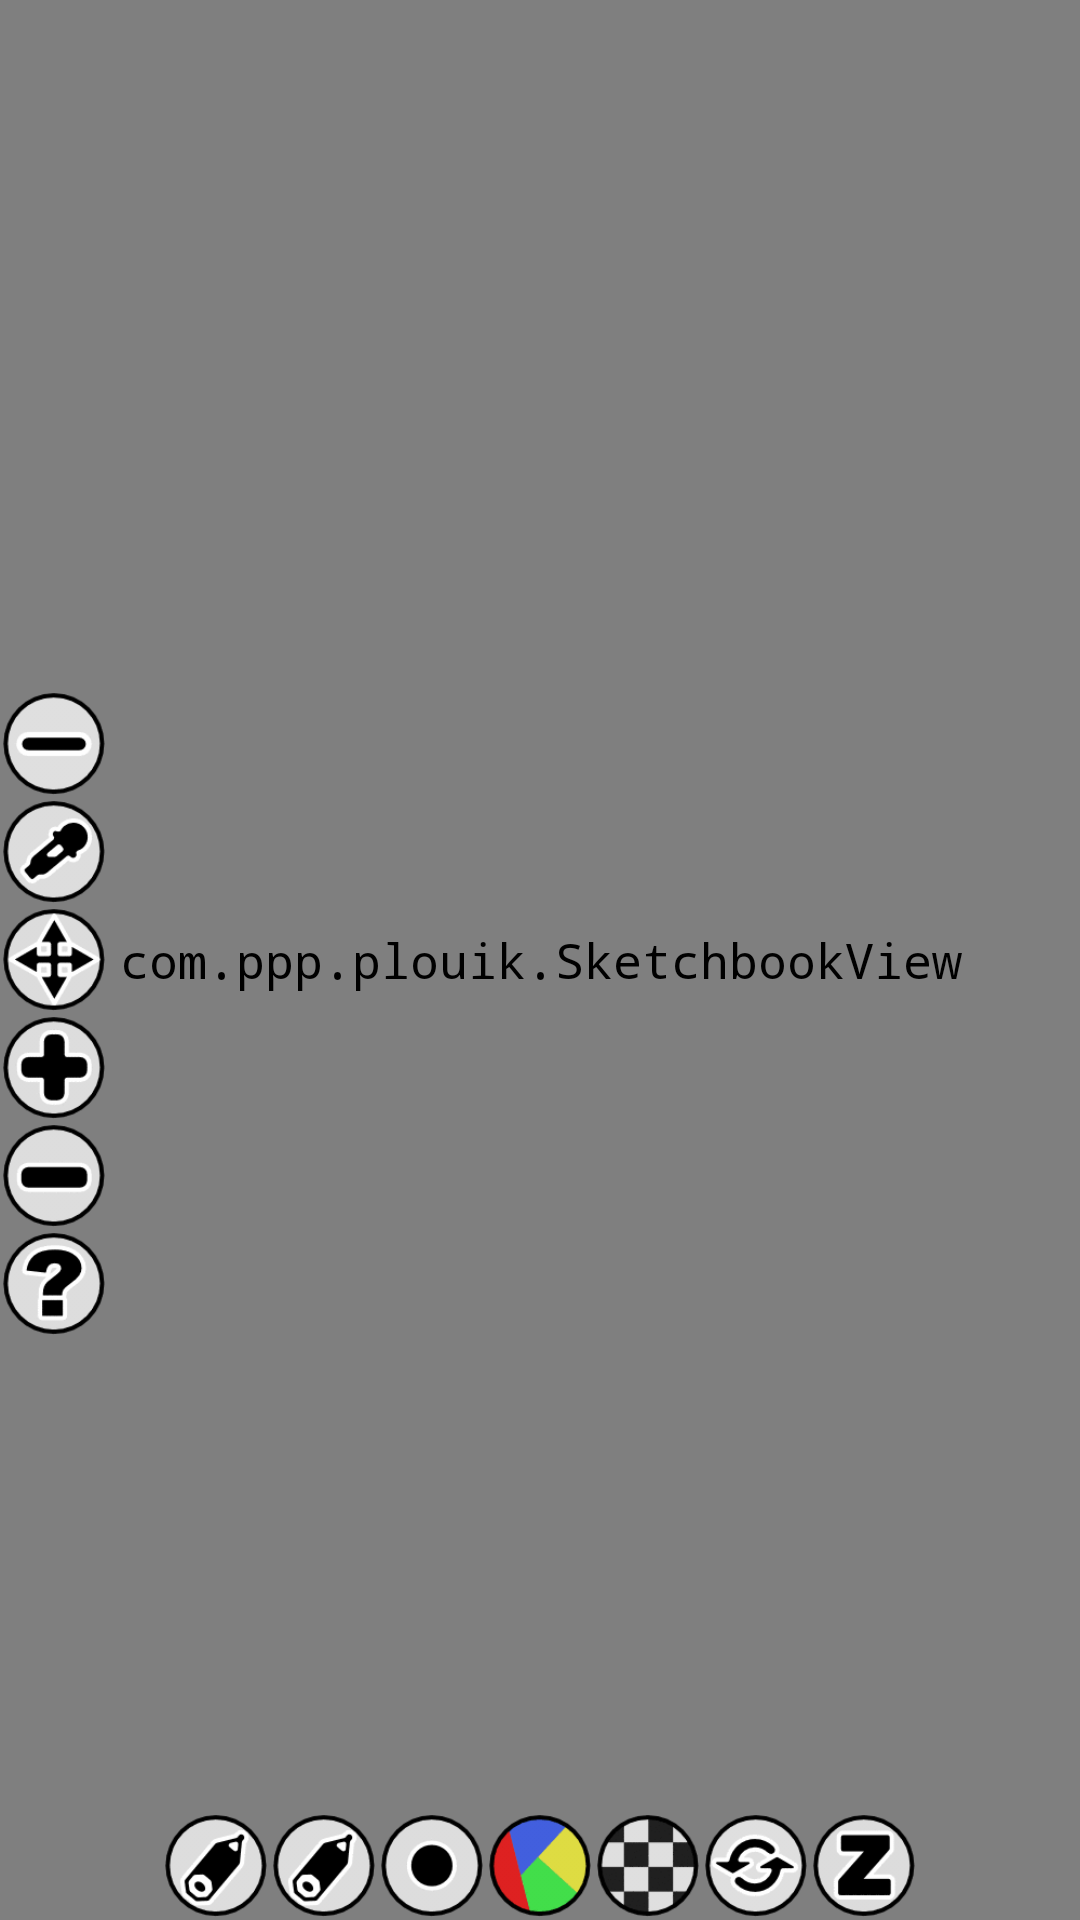

Named icons in this screenshot (1080w x 1920h) and their bounding boxes, {"x1": x1, "y1": y1, "x2": x2, "y2": y2}:
desktopabout: {"x1": 3, "y1": 1233, "x2": 105, "y2": 1334}
desktopcolor: {"x1": 489, "y1": 1815, "x2": 591, "y2": 1916}
desktopmoveoff: {"x1": 3, "y1": 909, "x2": 105, "y2": 1010}
desktopoperation: {"x1": 705, "y1": 1815, "x2": 807, "y2": 1916}
desktoppattern: {"x1": 597, "y1": 1815, "x2": 699, "y2": 1916}
desktoppickeroff: {"x1": 3, "y1": 801, "x2": 105, "y2": 902}
desktopundo: {"x1": 813, "y1": 1815, "x2": 915, "y2": 1916}
desktopzoomin: {"x1": 3, "y1": 1017, "x2": 105, "y2": 1118}
desktopzoomout: {"x1": 3, "y1": 1125, "x2": 105, "y2": 1226}
